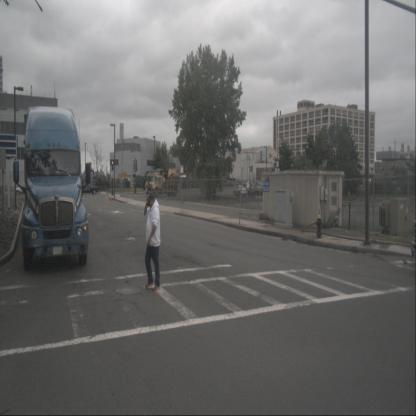human-pedestrian-adult: (143, 191, 161, 292)
vehicle-car: (233, 185, 247, 197)
vehicle-truck: (21, 106, 89, 271), (146, 171, 179, 197), (81, 181, 98, 195)
